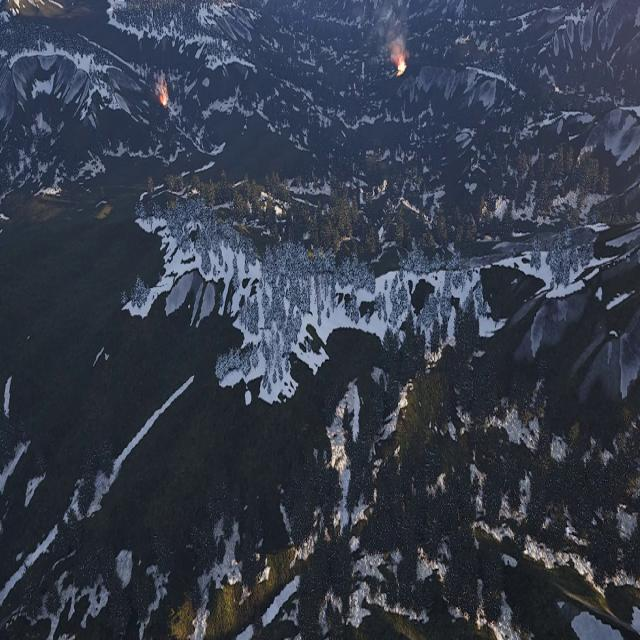fire: (160, 84, 170, 110), (395, 55, 406, 76)
smoke: (375, 0, 408, 57)
